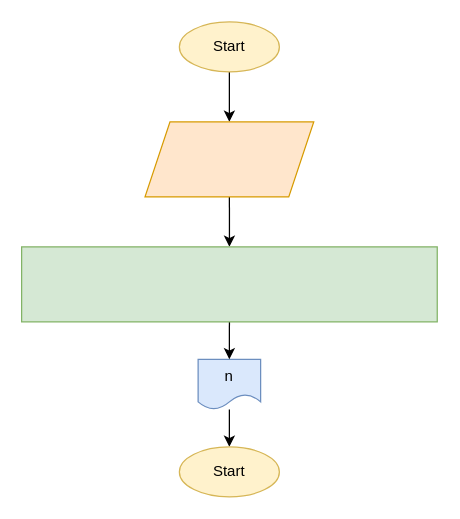
Some shapes in this 460 by 519 pixel diagram are drawn without their labels. Here are the shapes that lost their labels. From the top down, the centre of each, then its label:
At point (229, 159): "xa, xb, ya, yb, za, zb".
At point (228, 284): "n = (xa - xb)'' +(ya -yb)'' +(za -zb)''".
